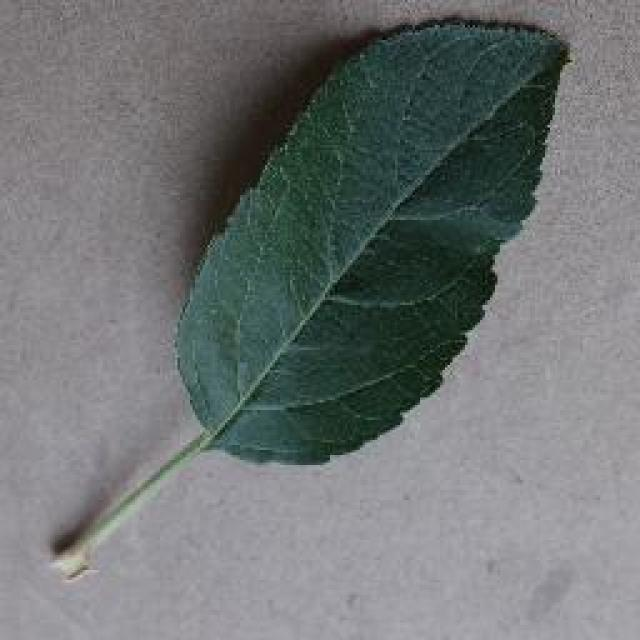apple healthy: (45, 10, 573, 582)
